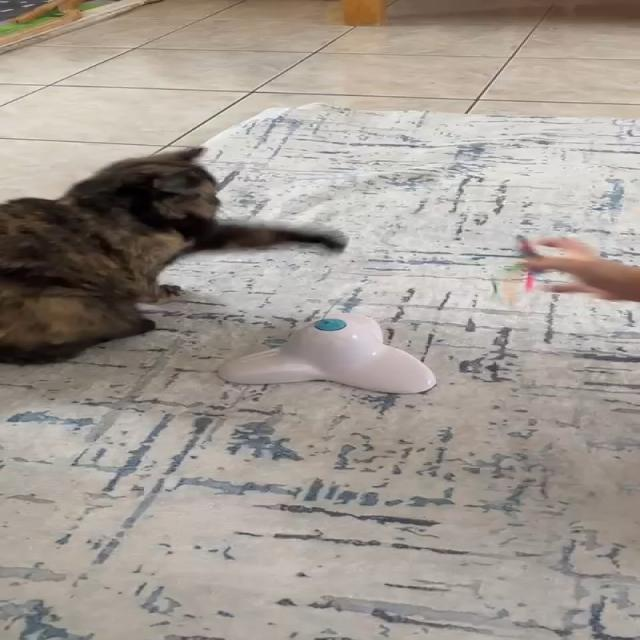authorized: (0, 145, 348, 365)
